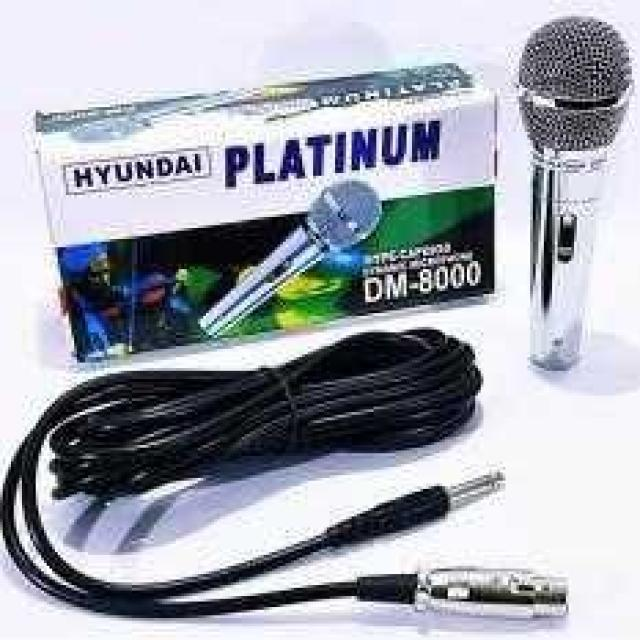microphone: (195, 174, 392, 340)
